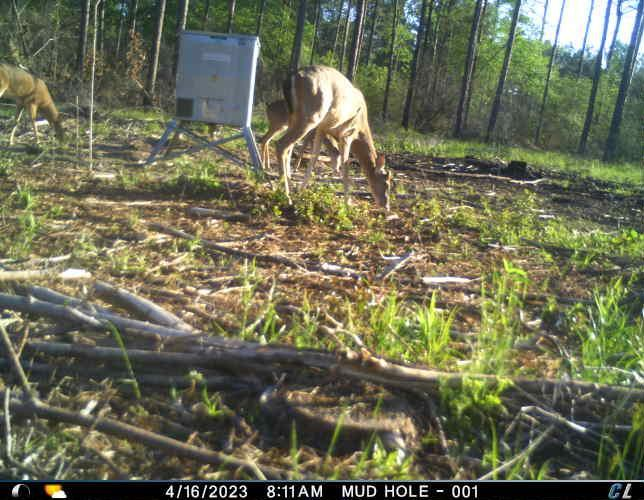Deer: (276, 64, 395, 201), (0, 62, 72, 151), (264, 97, 342, 174)
